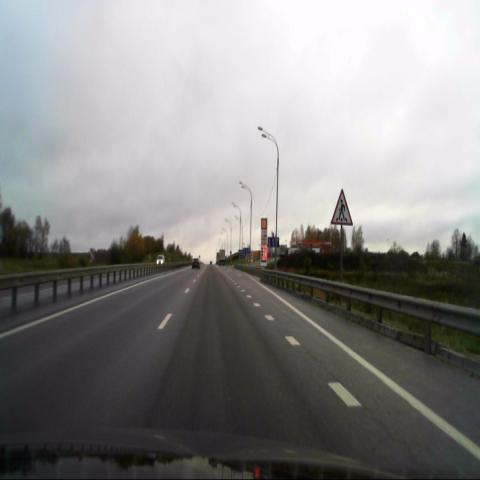1_22: (330, 188, 352, 225)
